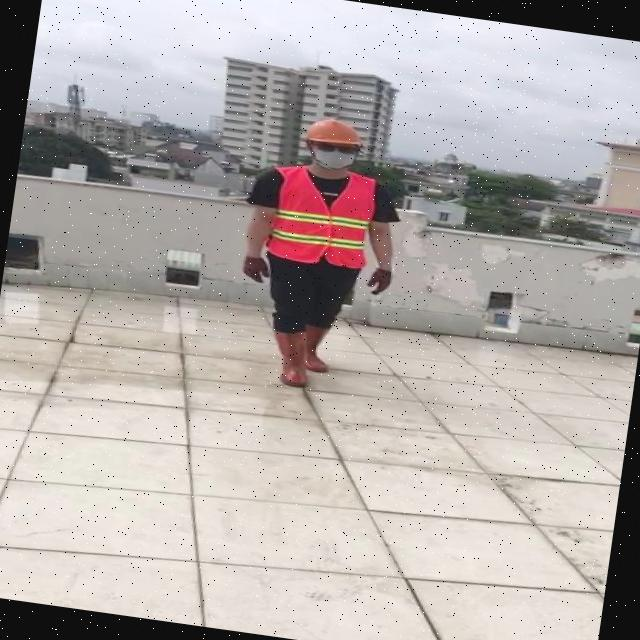boots: (271, 332, 314, 391), (298, 324, 334, 374)
